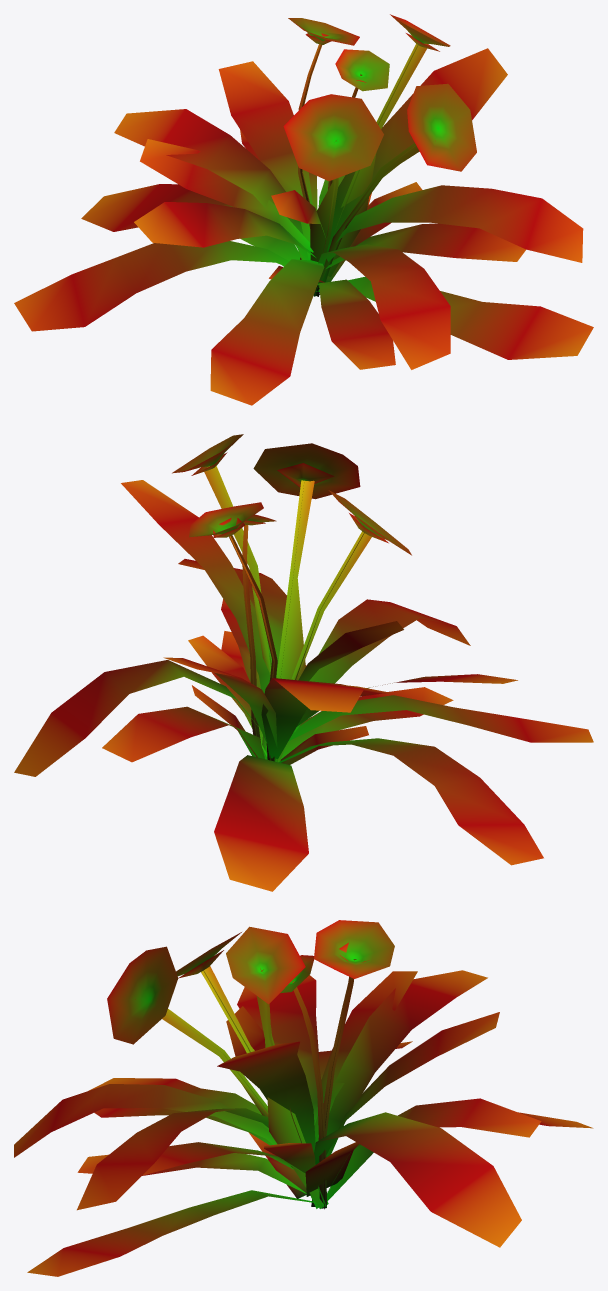
The model's file is Cape Weed_LOD1_Var2_tjmhfcyia.fbx.
3 views of the same model, one above another, from view 1: azimuth 30°, elevation 25°; view 2: azimuth 150°, elevation 25°; view 3: azimuth 270°, elevation 25° (orthographic). The views are drawn at different scales.
Visible parts, largest first — view 1: _56b8_Var2_LOD1; view 2: _56b8_Var2_LOD1; view 3: _56b8_Var2_LOD1.
Part boxes in pixels (x1,y1,x2,y2): _56b8_Var2_LOD1: [14, 14, 593, 405]; _56b8_Var2_LOD1: [14, 434, 593, 891]; _56b8_Var2_LOD1: [14, 920, 593, 1276].
Size of the model in its own units: 42.97 by 26.22 by 44.32.
